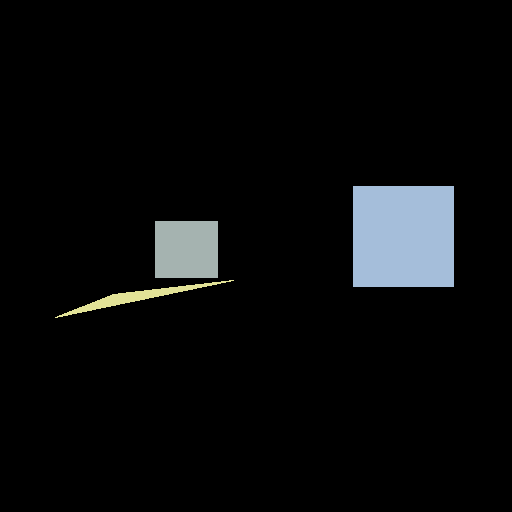rectangle: (155, 221, 217, 277)
square: (353, 186, 453, 286)
triangle: (55, 280, 233, 317)
